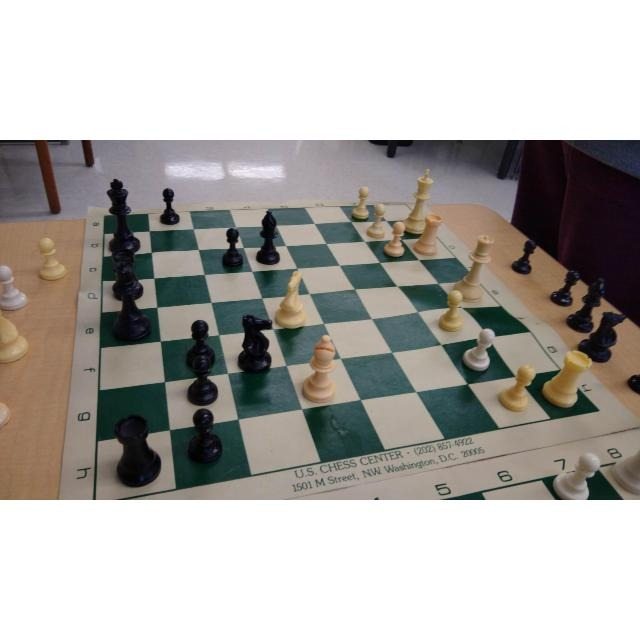black-bishop: (253, 208, 283, 266)
black-king: (105, 178, 141, 258)
black-knight: (235, 312, 275, 377)
black-pawn: (185, 408, 224, 466), (185, 353, 219, 407), (184, 318, 218, 371), (219, 226, 244, 269), (157, 187, 182, 227)
black-queen: (110, 258, 153, 344)
black-rook: (111, 411, 165, 489), (109, 247, 145, 303)
white-bishop: (298, 334, 339, 406)
white-king: (399, 167, 434, 236)
white-knight: (272, 268, 307, 331)
white-pawn: (550, 450, 600, 500), (497, 362, 536, 413), (461, 327, 497, 373), (437, 289, 465, 333), (382, 219, 407, 258), (367, 203, 387, 239), (351, 186, 371, 220)
white-queen: (448, 232, 494, 304)
white-rook: (539, 349, 593, 411), (411, 212, 443, 258)
